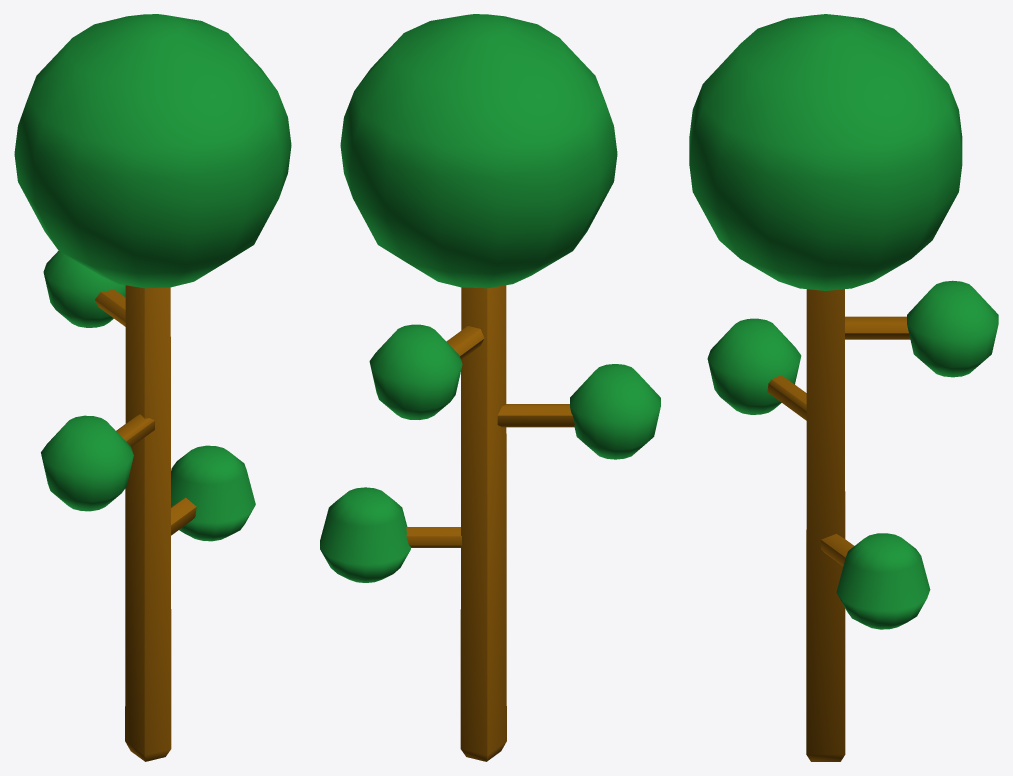
File: TreeTallLow.fbx
The picture shows the model from 3 angles, left to right: view 1: azimuth 30°, elevation 25°; view 2: azimuth 150°, elevation 25°; view 3: azimuth 270°, elevation 25°; orthographic projection.
Parts seen in each view (by area): view 1: TreeTall6; view 2: TreeTall6; view 3: TreeTall6.
Boxes of the visible parts, bbox=[...] form: TreeTall6: bbox=[14, 14, 291, 761]; TreeTall6: bbox=[320, 14, 660, 761]; TreeTall6: bbox=[689, 14, 998, 761].
Size of the model in its own units: 3.54 by 9.27 by 3.53.
1 material, 1 textured.
